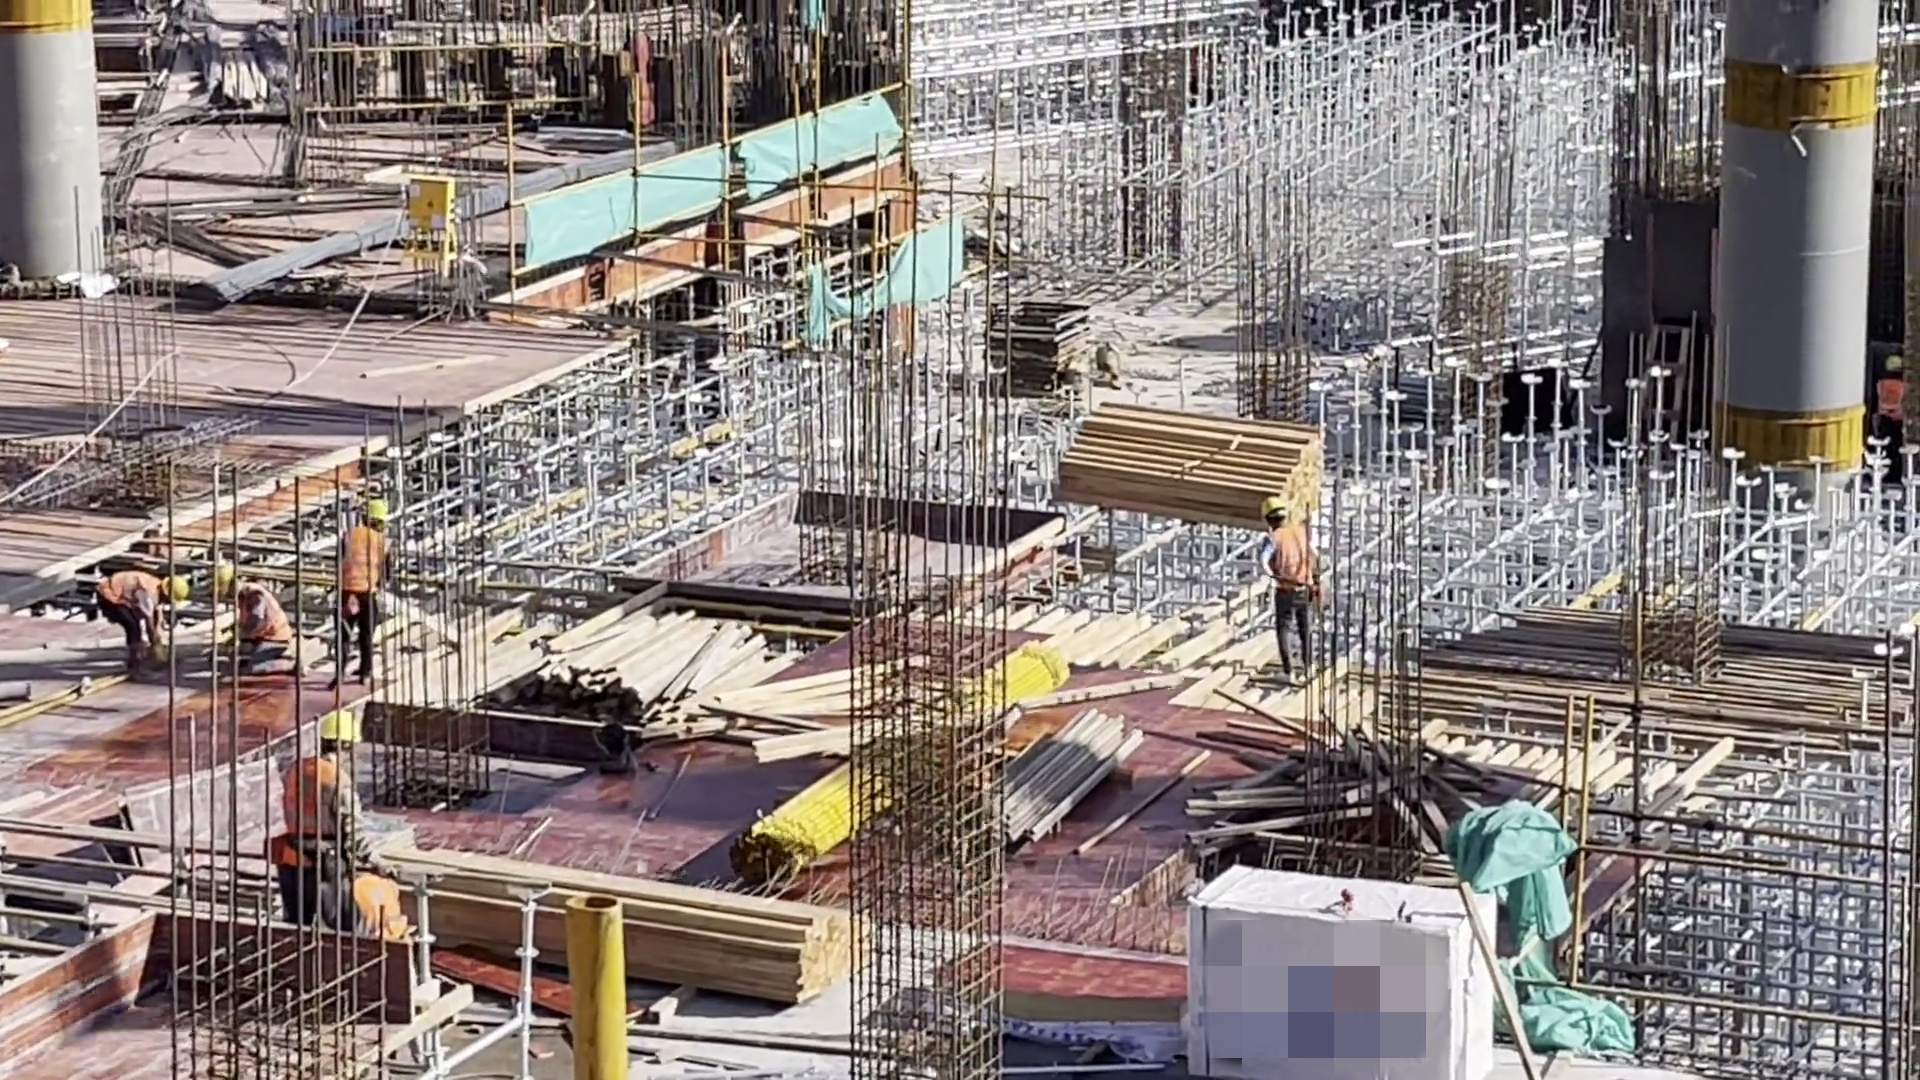ebox: (403, 169, 457, 285)
helmet: (315, 705, 367, 742), (352, 492, 386, 520), (159, 568, 189, 600), (1261, 492, 1293, 519), (203, 566, 237, 591)
person: (267, 704, 359, 918), (1258, 499, 1326, 683), (334, 485, 397, 684), (82, 551, 195, 649), (198, 567, 302, 665)
rebar: (1386, 603, 1920, 757)
vest: (278, 757, 360, 863), (1265, 528, 1325, 596), (341, 518, 394, 589), (230, 586, 291, 637), (99, 568, 161, 605)
wood: (1047, 393, 1324, 525), (530, 600, 806, 708)
